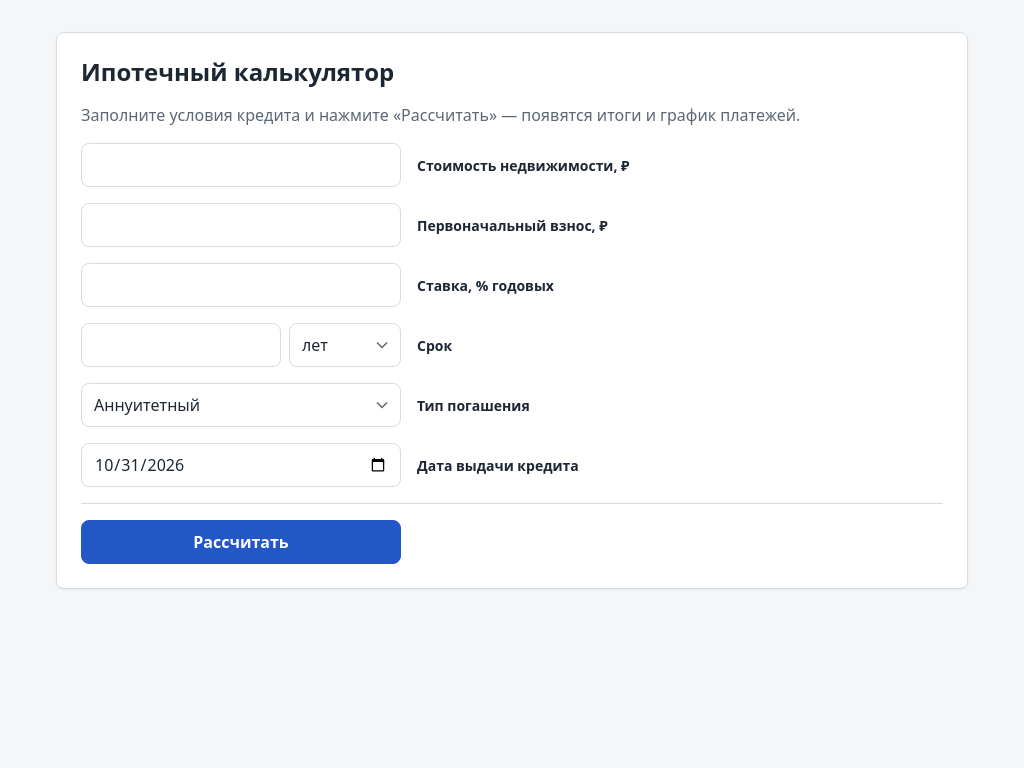
по умолчанию срок в годах; в месяцах уходит как есть
The width and height of the screenshot is (1024, 768).
Expected: the dropdown named "Единицы срока" shows "лет", [289,323,401,367]
Step 1. Type "5000000" into the field labelled "Стоимость недвижимости, ₽" → (241, 165), box [81,143,401,187]
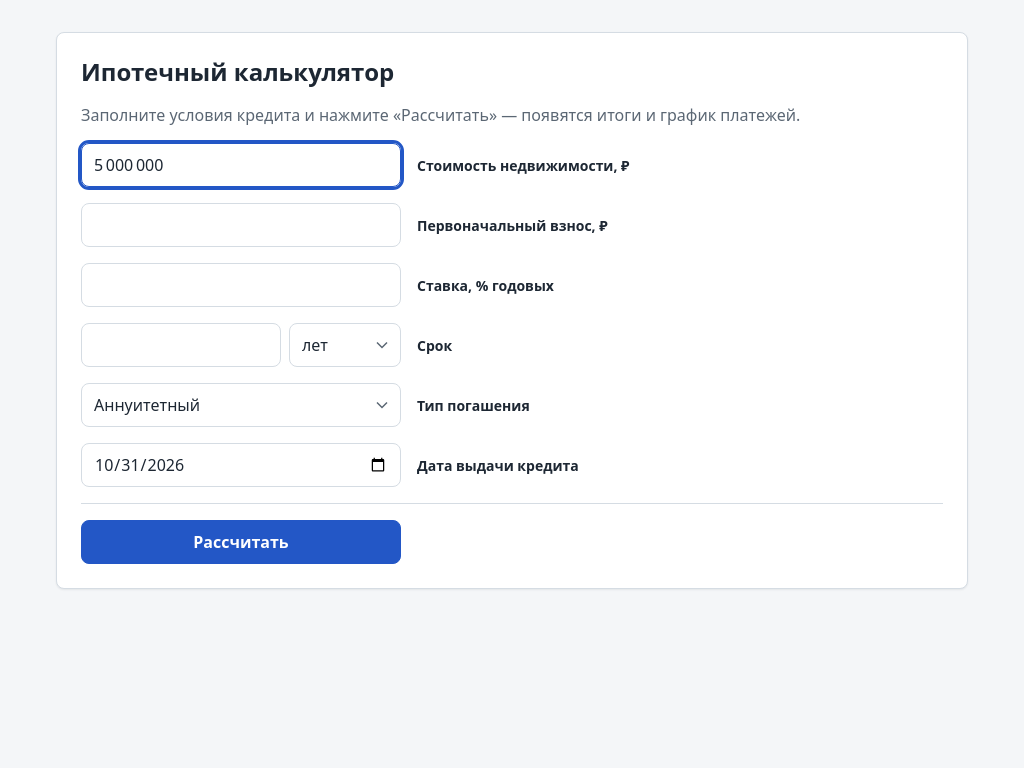
Step 2. Type "1000000" into the field labelled "Первоначальный взнос, ₽" → (241, 225), box [81,203,401,247]
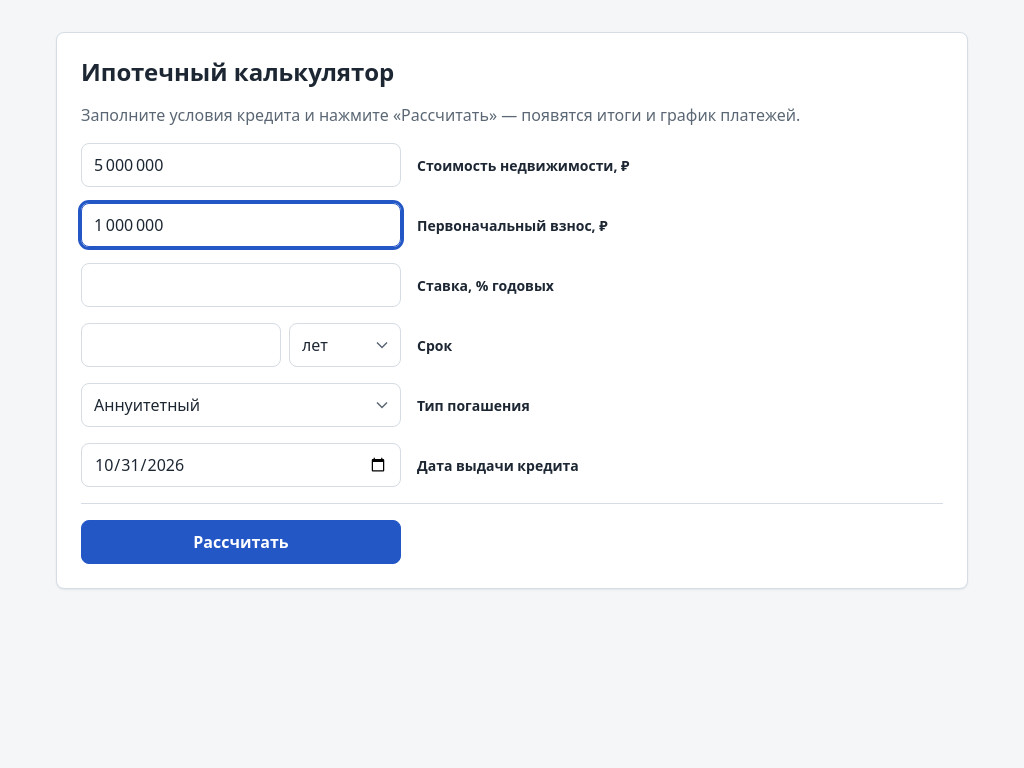
Step 3. Type "18.5" into the field labelled "Ставка, % годовых" → (241, 285), box [81,263,401,307]
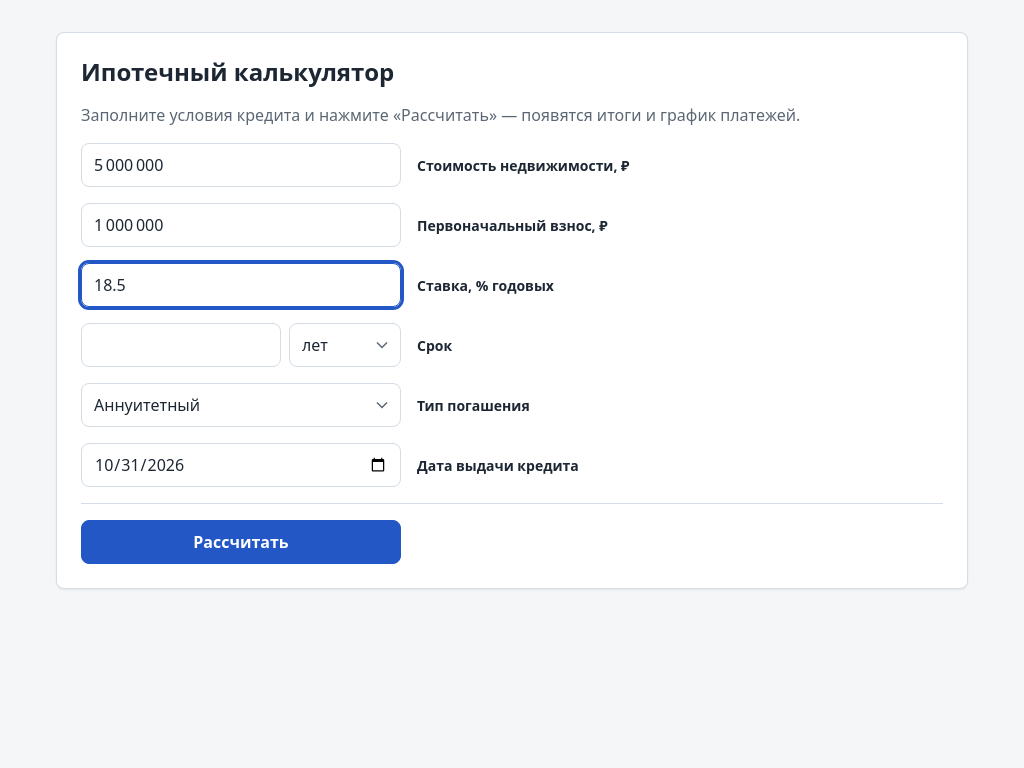
Step 4. Select "месяцев" in the dropdown named "Единицы срока" → (345, 345), box [289,323,401,367]
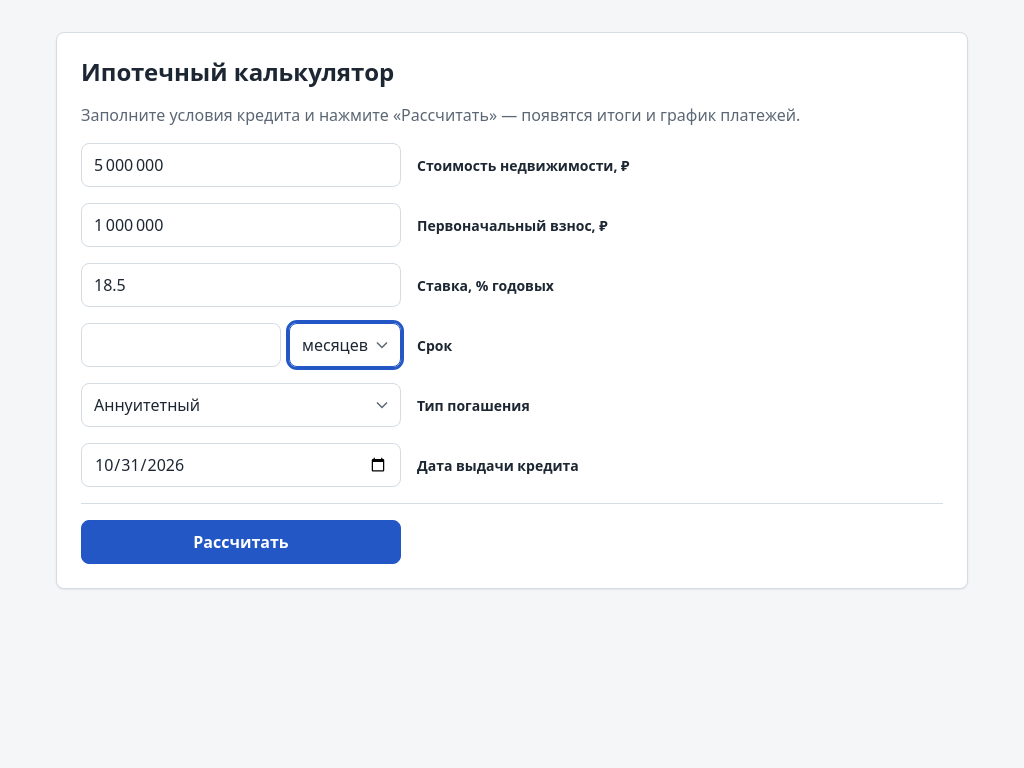
Step 5. Type "245" into the field labelled "Срок" → (181, 345), box [81,323,281,367]
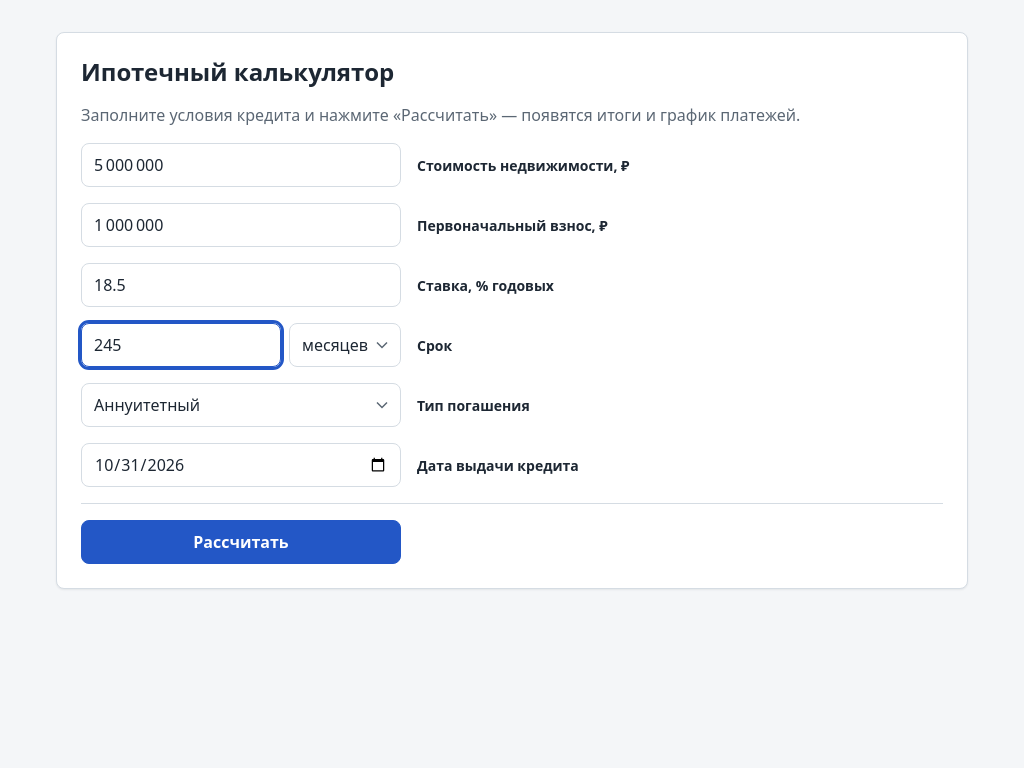
Step 6. Click the button "Рассчитать" → (241, 542), box [81,520,401,564]
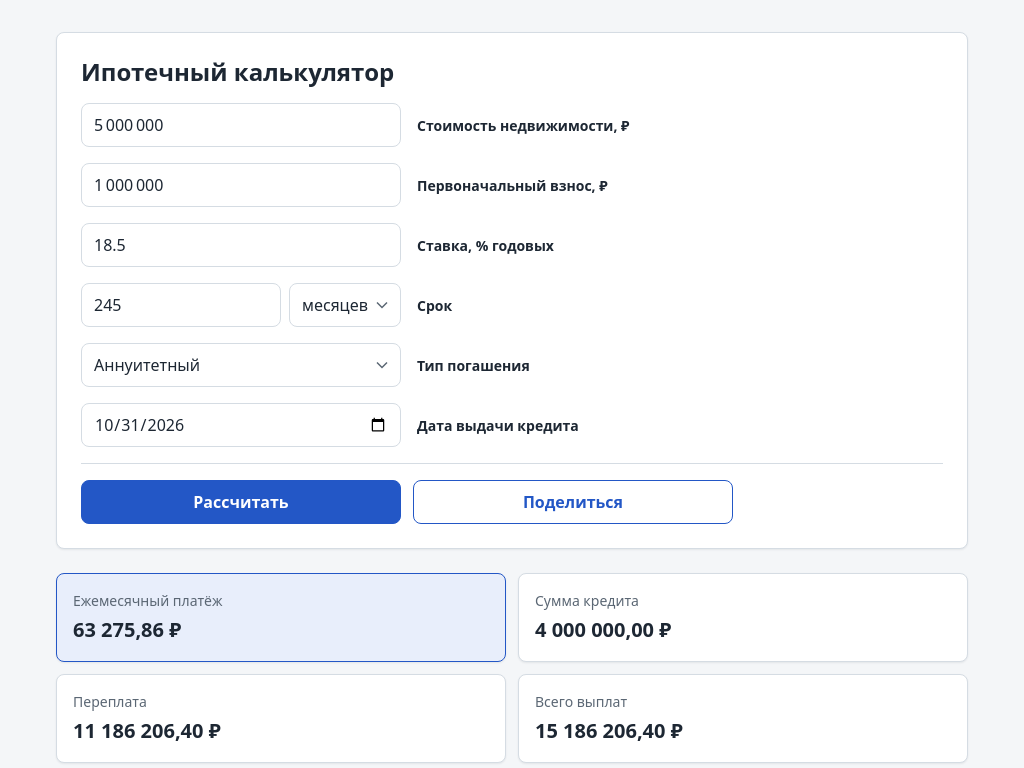
Expected: the text "Ежемесячный платёж" is shown, [73,590,222,611]
